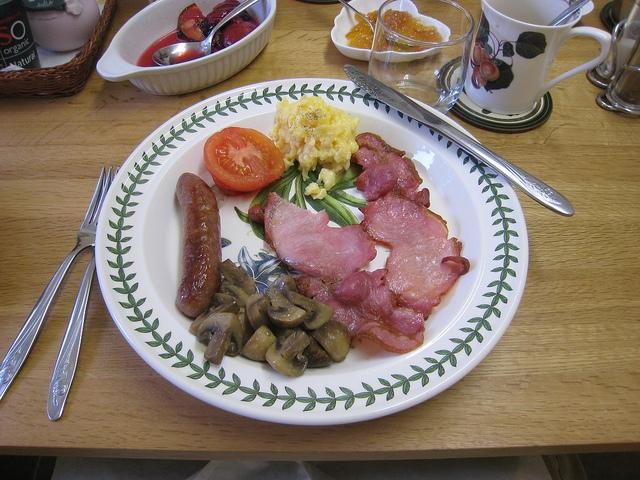mushroom: (197, 312, 243, 364), (266, 330, 310, 378), (286, 290, 334, 330), (264, 287, 306, 329), (309, 321, 352, 362), (240, 324, 278, 362), (218, 258, 256, 296), (246, 292, 276, 332), (303, 336, 334, 368), (235, 308, 256, 348), (211, 286, 249, 308)
tomato: (204, 126, 286, 195)
